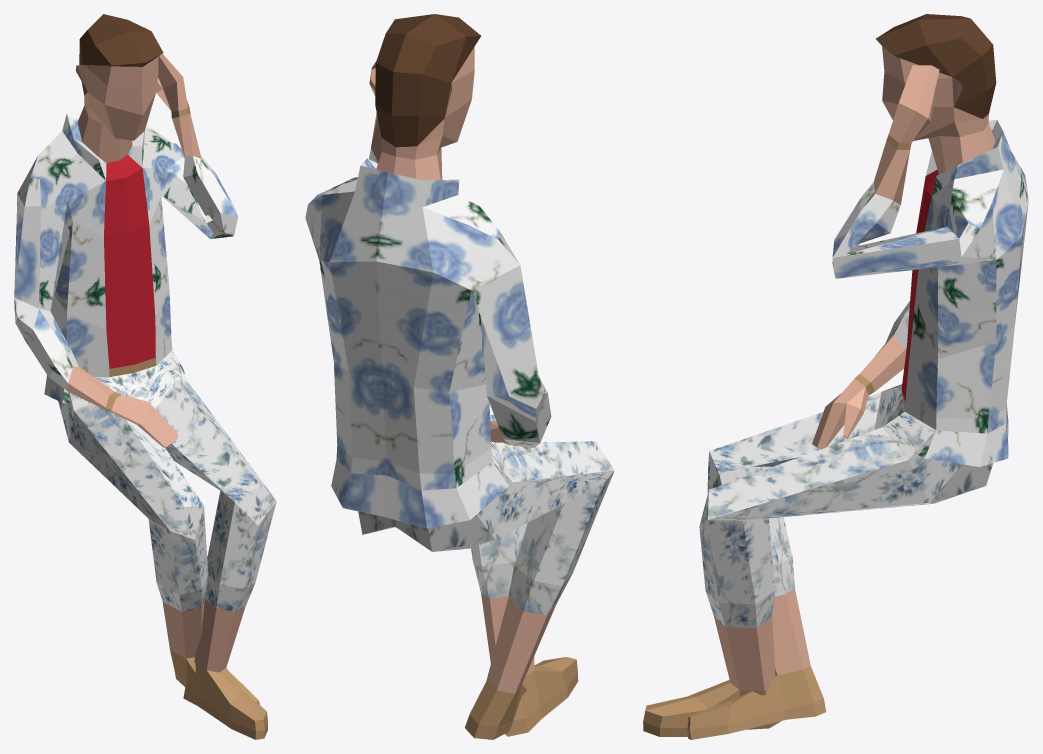
File: SpringManC.010.glb
The picture shows the model from 3 angles, left to right: view 1: azimuth 30°, elevation 25°; view 2: azimuth 150°, elevation 25°; view 3: azimuth 270°, elevation 25°; orthographic projection. The views are drawn at different scales.
Visible parts, largest first — view 1: SpringManC.011; view 2: SpringManC.011; view 3: SpringManC.011.
Part boxes in pixels (x1,y1,x2,y2): SpringManC.011: (14,14,276,739); SpringManC.011: (305,14,614,739); SpringManC.011: (643,14,1028,739).
Size of the model in its own units: 0.4283 by 1.41 by 0.6956.
Materials: 1 (1 with a texture image).
